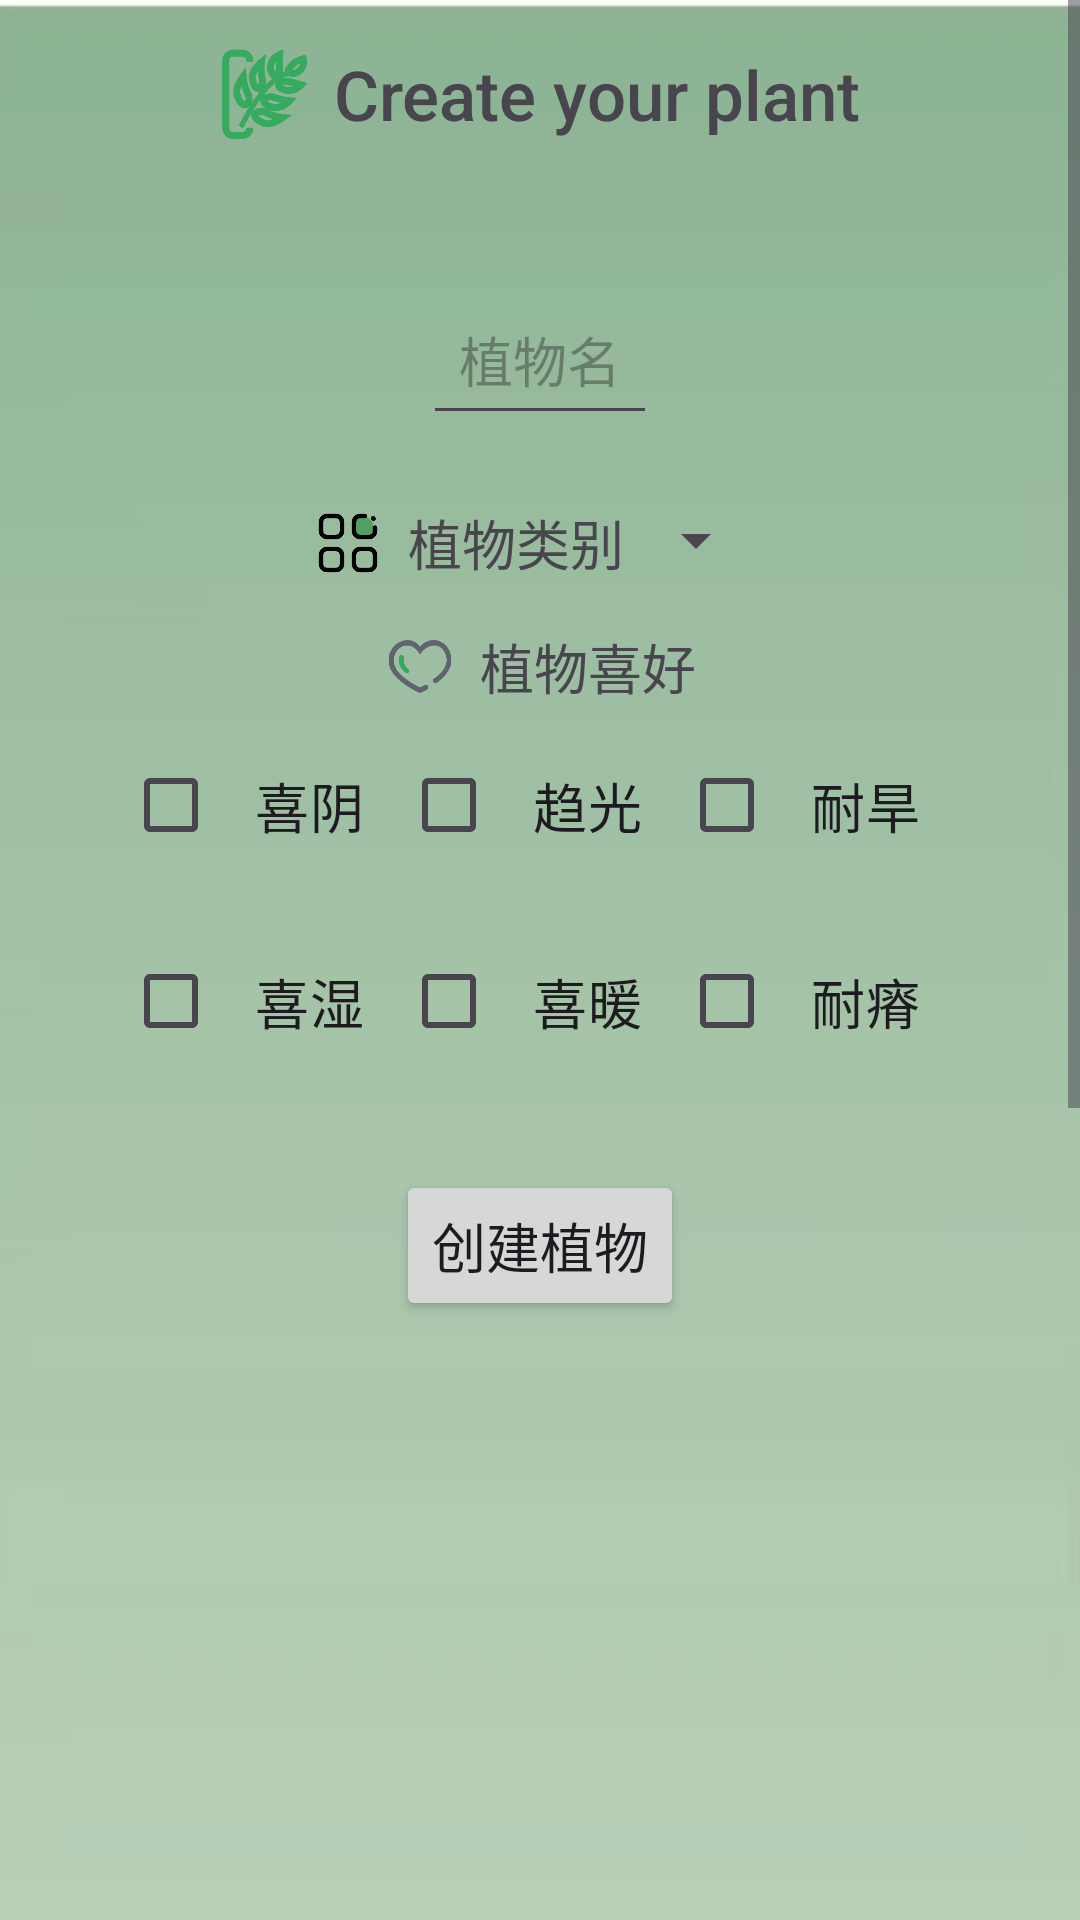

Icon click points for this 1080px×1920px phone screenshot, format (x=x, y=y):
category: (x=348, y=543)
preferences: (x=420, y=666)
